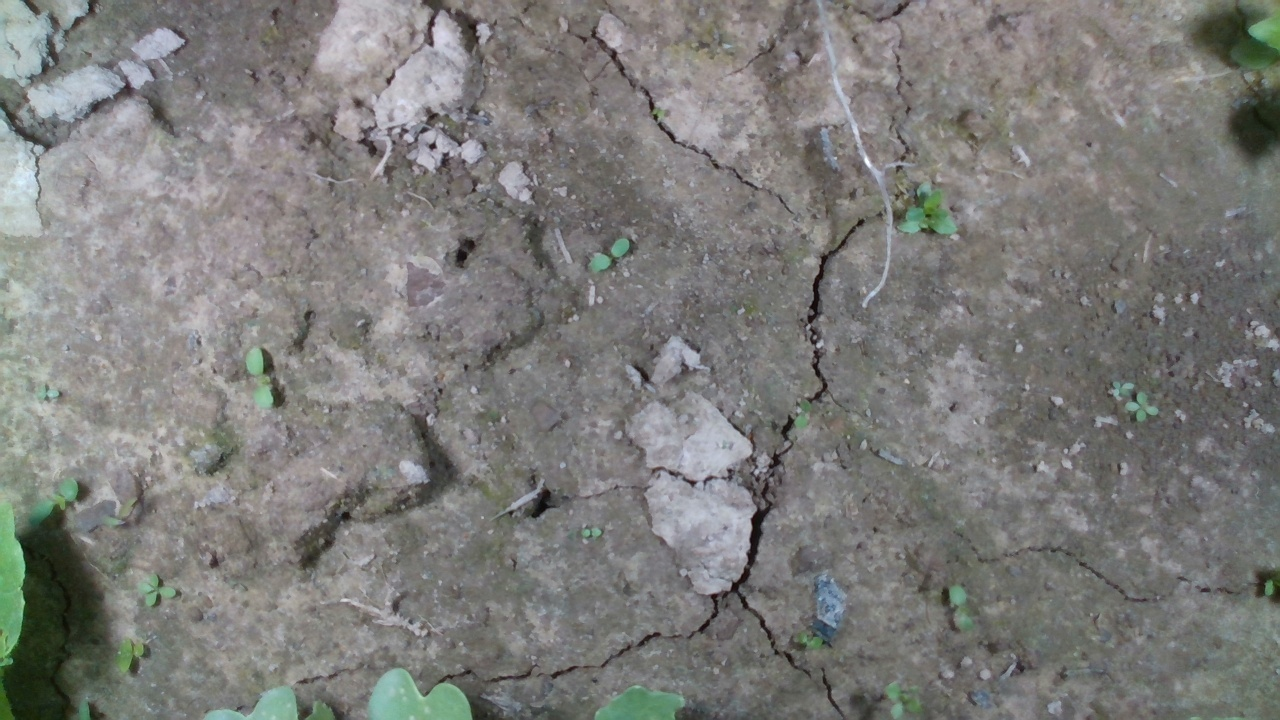weed: (28, 476, 80, 525), (244, 346, 275, 409), (586, 236, 630, 272), (137, 572, 178, 608), (947, 584, 972, 632), (117, 637, 144, 674), (30, 381, 61, 404), (792, 630, 824, 650), (576, 525, 602, 539)
